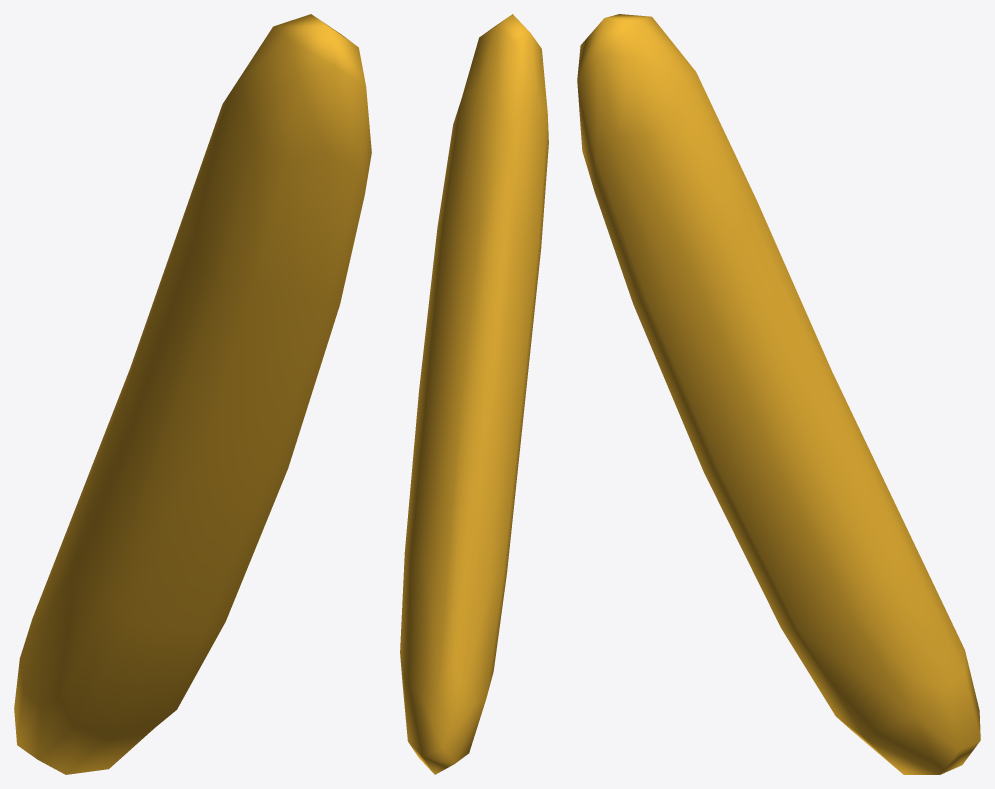
The model's file is nervoso-nucleus-ambiguus-l.glb.
3 renders of one model, left to right at view 1: azimuth 30°, elevation 25°; view 2: azimuth 150°, elevation 25°; view 3: azimuth 270°, elevation 25°, orthographic. The views are drawn at different scales.
Parts seen in each view (by area): view 1: Nucleus ambiguus.l; view 2: Nucleus ambiguus.l; view 3: Nucleus ambiguus.l.
Part boxes in pixels (bbox=[...]): Nucleus ambiguus.l: bbox=[14, 14, 371, 774]; Nucleus ambiguus.l: bbox=[400, 14, 548, 774]; Nucleus ambiguus.l: bbox=[577, 14, 980, 774].
Bounding box in the file's own units: 0.00144 × 0.00678 × 0.00315.
